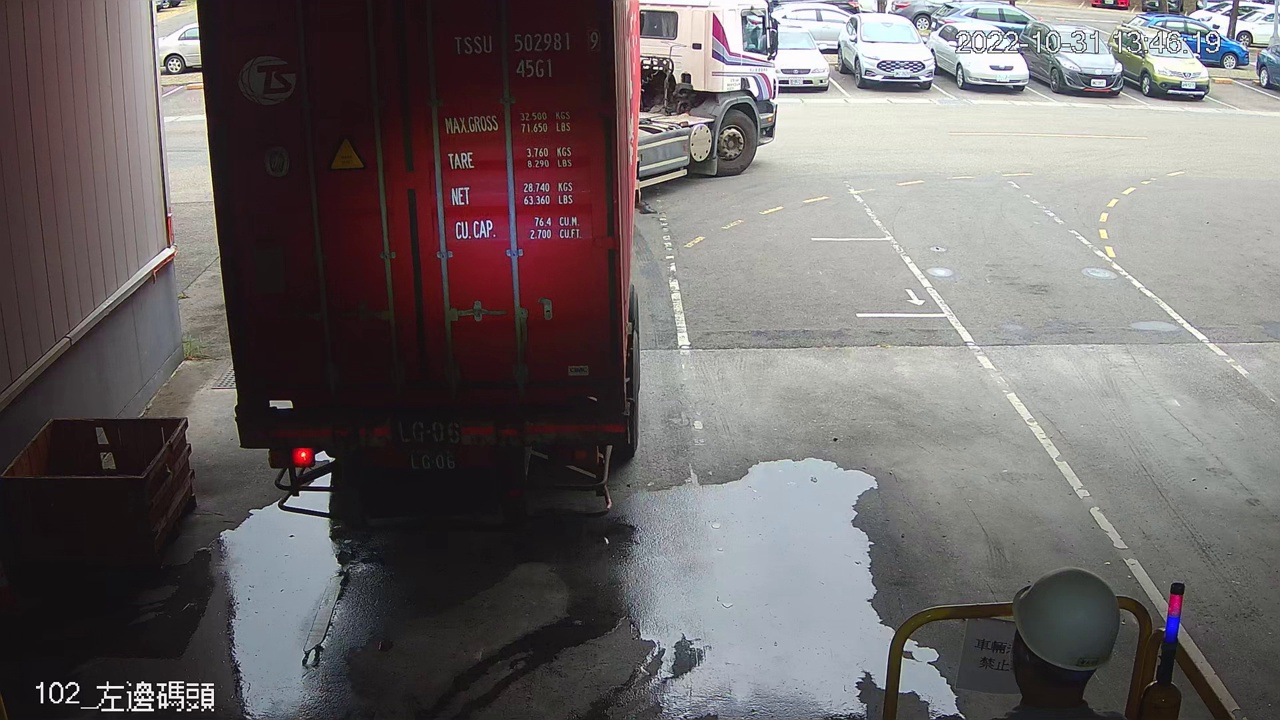container: (445, 27, 608, 86)
